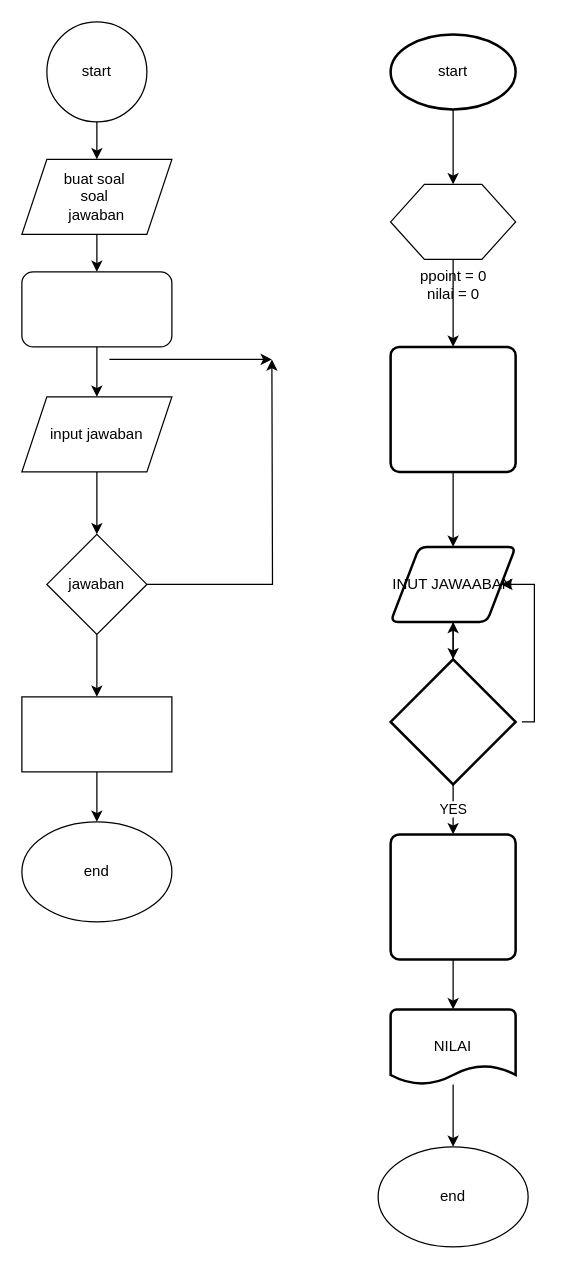
Some shapes in this 566 by 1269 pixel diagram are drawn without their labels. Each missing label, with the centre of its shape:
JAWABAN?: point (452, 721)
MEMBUAT SOAL: point (452, 408)
nilai 100: point (96, 734)
nilai = point + 2: point (452, 896)
soal di deploy: point (96, 309)
